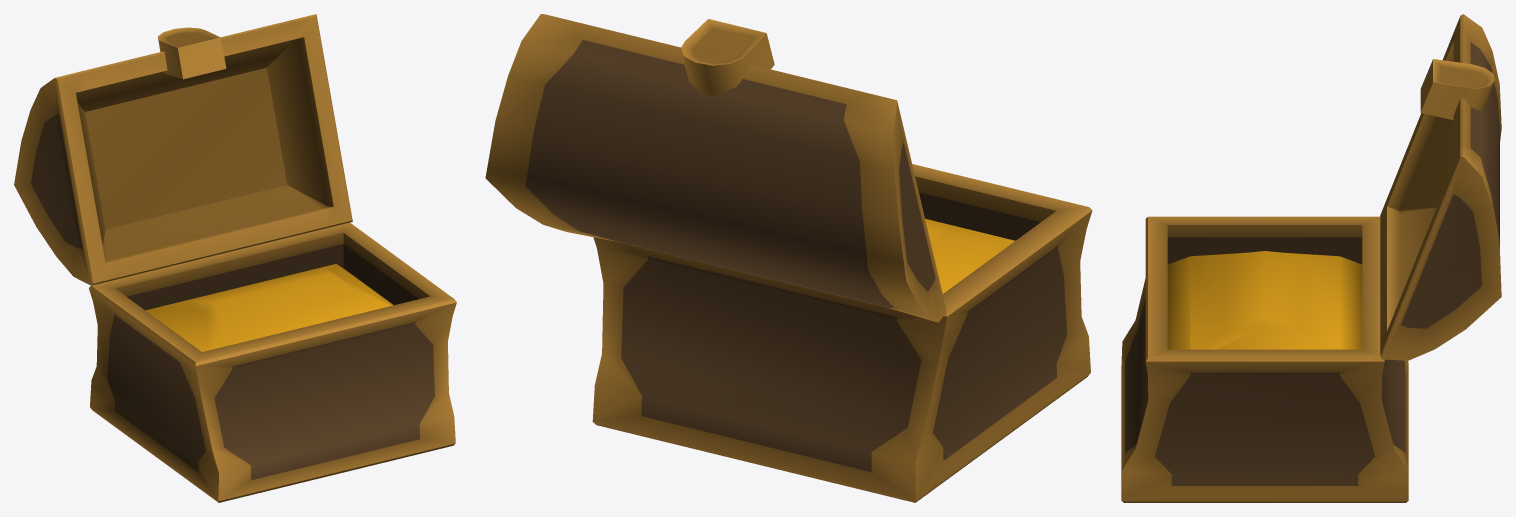
File: obj_chestOpen_body_LOW.FBX
3 views of the same model, side by side, from view 1: azimuth 30°, elevation 25°; view 2: azimuth 150°, elevation 25°; view 3: azimuth 270°, elevation 25° (orthographic). The views are drawn at different scales.
Visible parts, largest first — view 1: obj_chestOpen_body_LOW; view 2: obj_chestOpen_body_LOW; view 3: obj_chestOpen_body_LOW.
Part boxes in pixels (x1,y1,x2,y2): obj_chestOpen_body_LOW: (14,14,456,502); obj_chestOpen_body_LOW: (485,14,1092,502); obj_chestOpen_body_LOW: (1121,14,1501,502).
Size of the model in its own units: 2.35 by 2.4 by 2.24.
